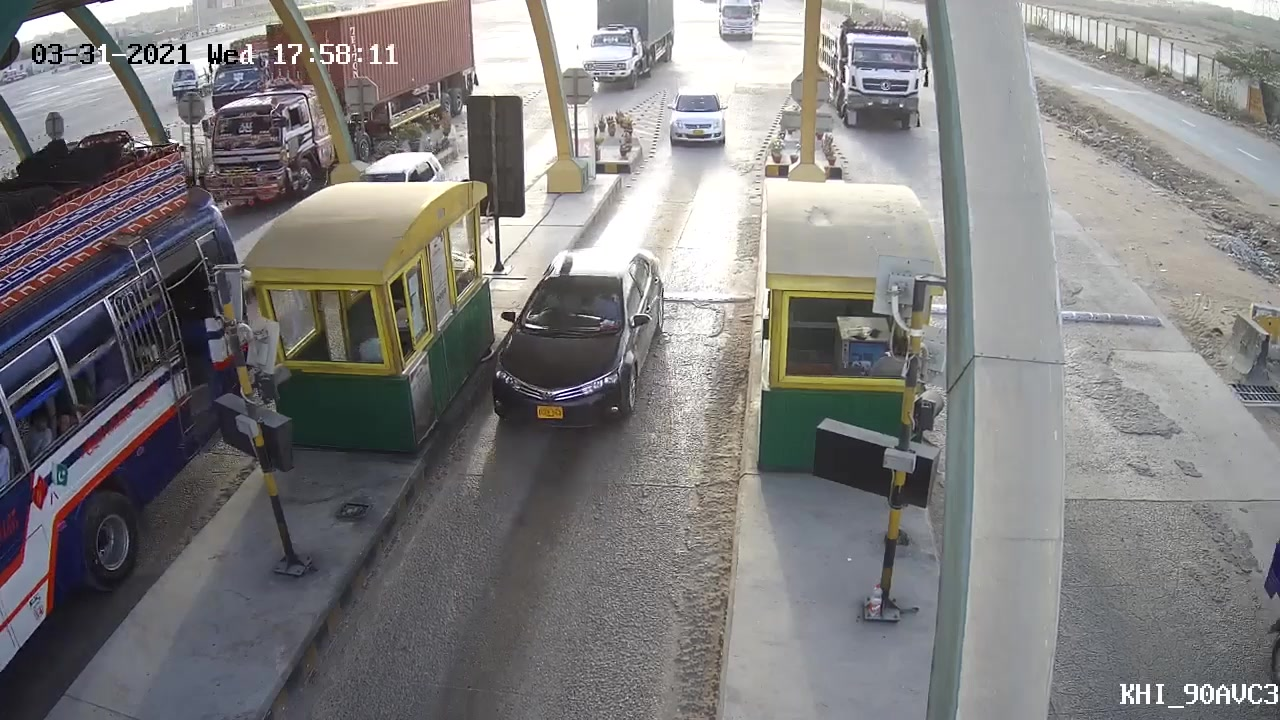F1: (474, 242, 669, 445)
